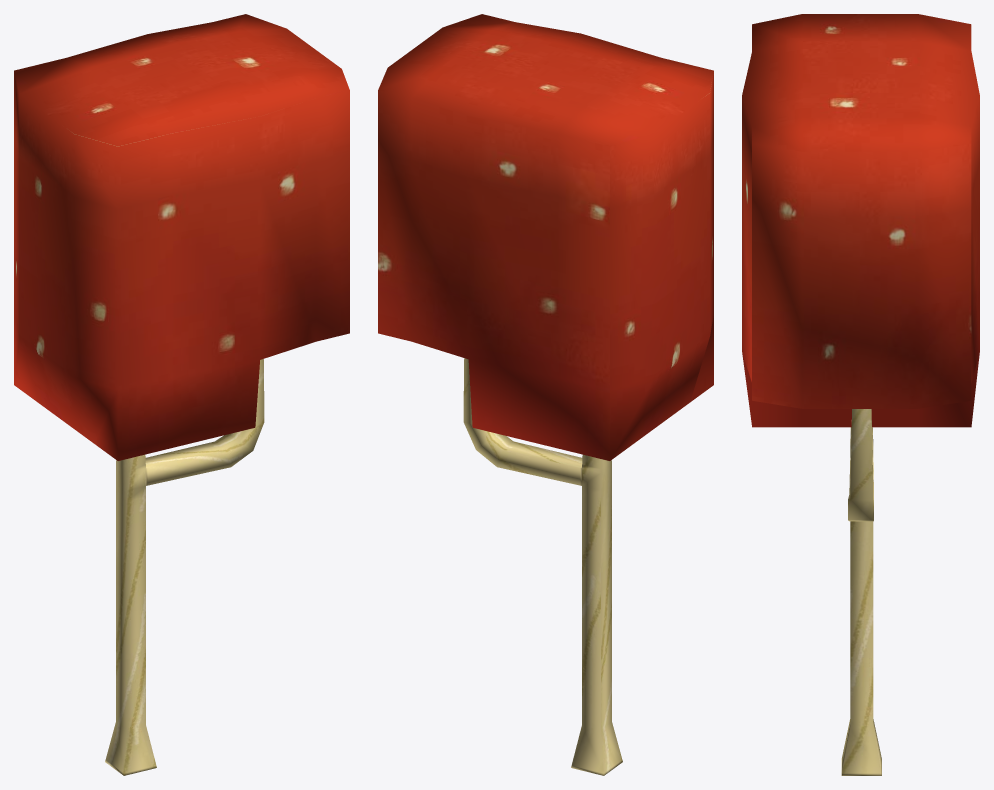
File: tree_004.glb
The picture shows the model from 3 angles, left to right: view 1: azimuth 30°, elevation 25°; view 2: azimuth 150°, elevation 25°; view 3: azimuth 270°, elevation 25°; orthographic projection. The views are drawn at different scales.
Parts seen in each view (by area): view 1: tree004_leaves, tree004_trunk; view 2: tree004_leaves, tree004_trunk; view 3: tree004_leaves, tree004_trunk.
Boxes of the visible parts, bbox=[...] form: tree004_leaves: bbox=[14, 14, 349, 460]; tree004_trunk: bbox=[105, 359, 264, 775]; tree004_leaves: bbox=[378, 14, 713, 460]; tree004_trunk: bbox=[463, 358, 622, 775]; tree004_leaves: bbox=[742, 14, 979, 427]; tree004_trunk: bbox=[841, 409, 881, 775].
Bounding box in the file's own units: 2.54 × 6.21 × 1.85.
Materials: 1 (1 with a texture image).
